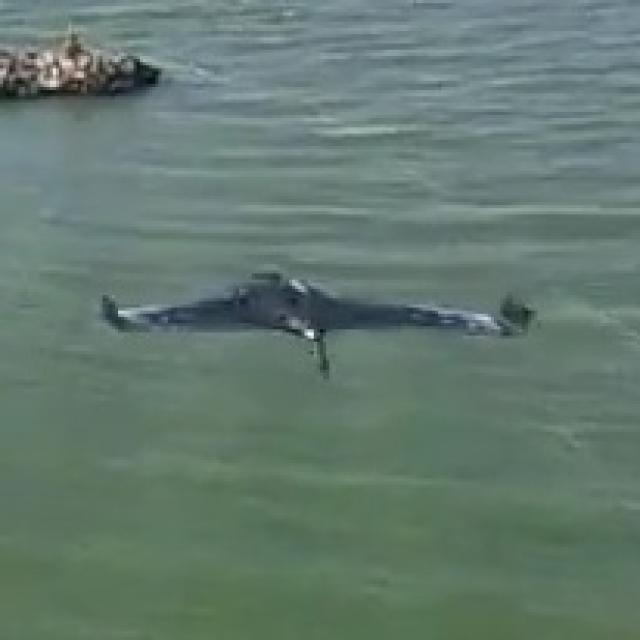iha: (96, 301, 550, 345)
